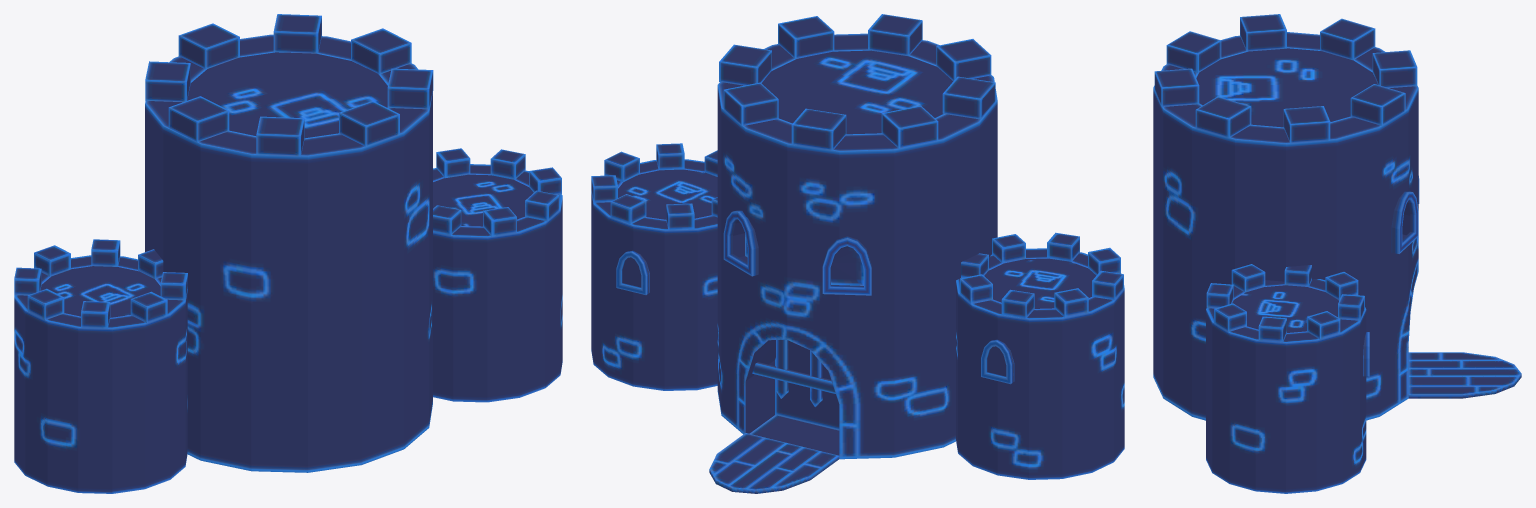
The model's file is BlueCastle.glb.
The picture shows the model from 3 angles, left to right: view 1: azimuth 30°, elevation 25°; view 2: azimuth 150°, elevation 25°; view 3: azimuth 270°, elevation 25°; orthographic projection. The views are drawn at different scales.
Visible parts, largest first — view 1: BlueCastle; view 2: BlueCastle; view 3: BlueCastle.
Boxes of the visible parts, x1,y1,x2,y2 form: BlueCastle: (14, 14, 562, 493); BlueCastle: (591, 14, 1124, 493); BlueCastle: (1153, 14, 1521, 493).
Size of the model in its own units: 0.4124 by 0.2522 by 0.2734.
1 material, 1 textured.
